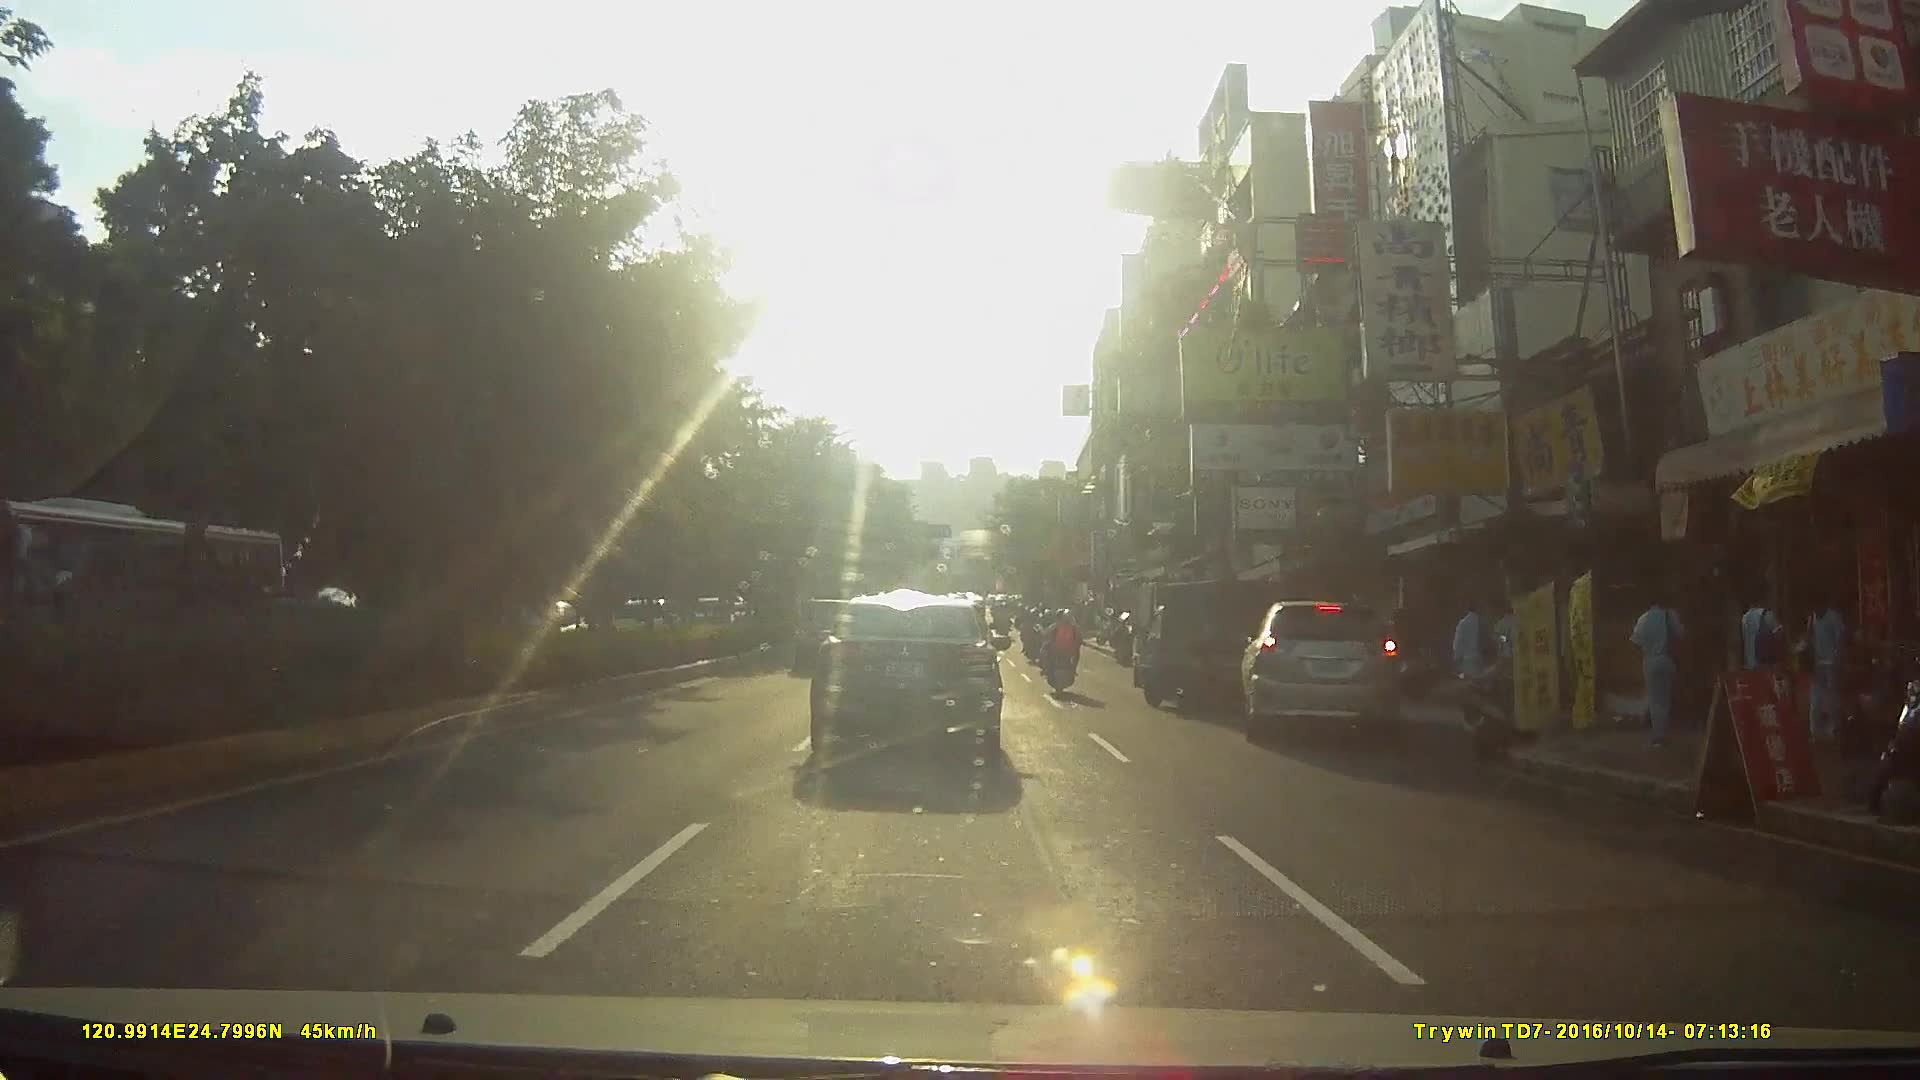pedestrian: (1801, 583, 1856, 759), (1739, 585, 1788, 764), (1636, 587, 1687, 746), (1450, 593, 1501, 719)
rider: (1039, 600, 1082, 695), (1023, 608, 1047, 663)
vehicle: (1, 496, 295, 666), (807, 593, 1029, 779), (1235, 590, 1429, 758), (1120, 569, 1257, 724)
